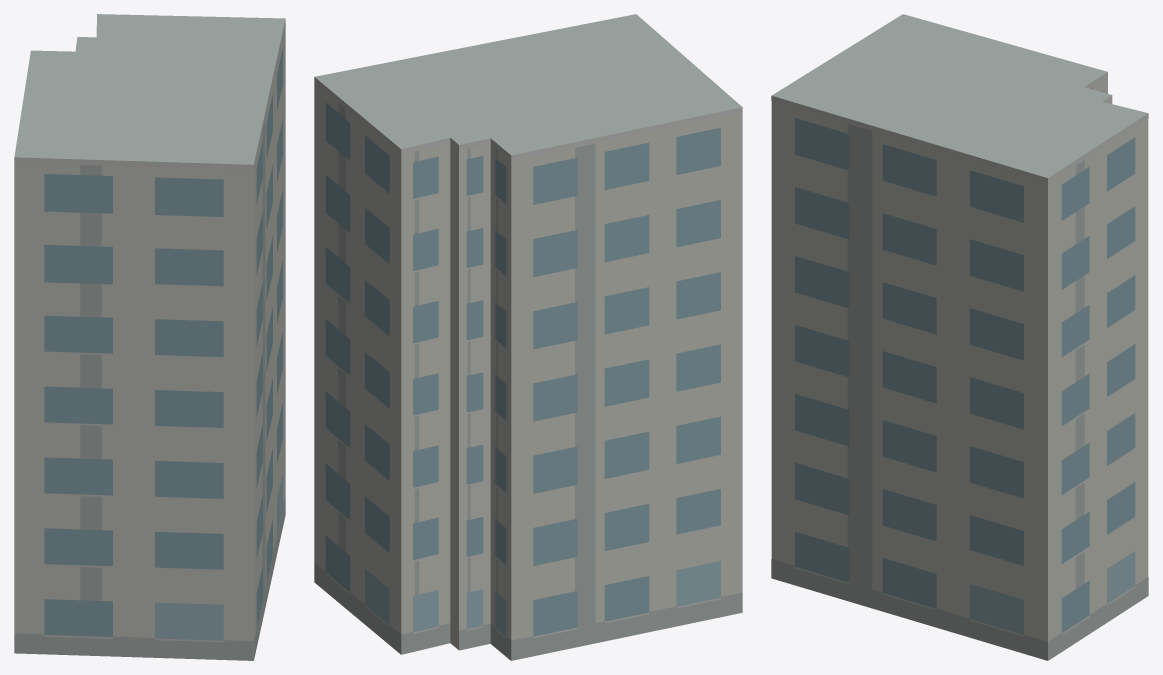
The model's file is survey-upis-32765850.glb.
3 views of the same model, side by side, from view 1: azimuth 30°, elevation 25°; view 2: azimuth 150°, elevation 25°; view 3: azimuth 270°, elevation 25° (orthographic). The views are drawn at different scales.
Parts seen in each view (by area): view 1: survey-upis-32765850.tmp; view 2: survey-upis-32765850.tmp; view 3: survey-upis-32765850.tmp.
Boxes of the visible parts, bbox=[...] form: survey-upis-32765850.tmp: bbox=[14, 14, 285, 660]; survey-upis-32765850.tmp: bbox=[314, 14, 742, 660]; survey-upis-32765850.tmp: bbox=[771, 14, 1148, 660].
Size of the model in its own units: 15.58 by 21.35 by 15.12.
